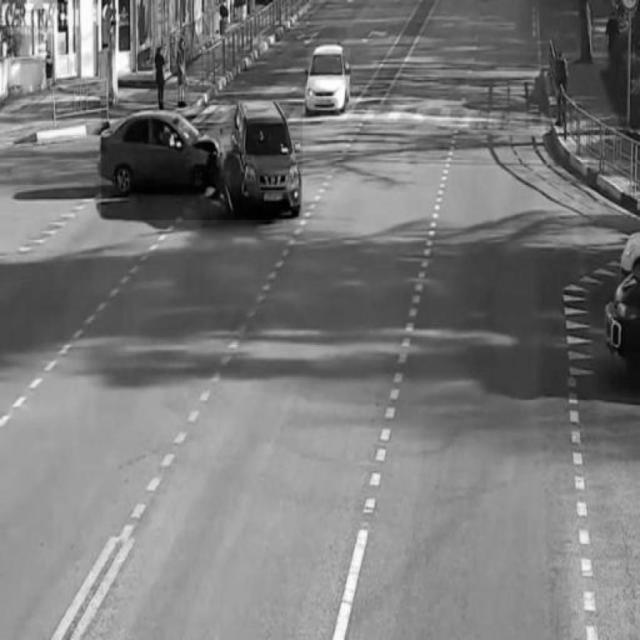accident: (102, 102, 303, 220)
vehicle: (308, 47, 350, 115)
